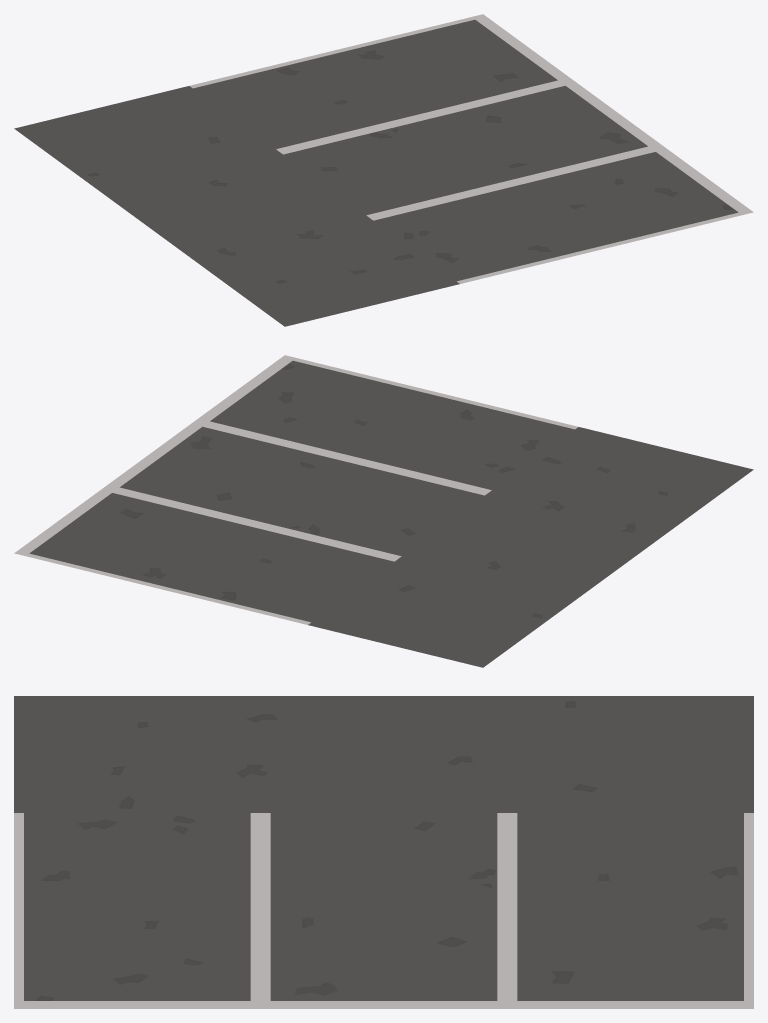
The model's file is SM_Env_Ground_ParkingLines_01.fbx.
3 views of the same model, one above another, from view 1: azimuth 30°, elevation 25°; view 2: azimuth 150°, elevation 25°; view 3: azimuth 270°, elevation 25° (orthographic). The views are drawn at different scales.
Visible parts, largest first — view 1: SM_Env_Ground_ParkingLines_01; view 2: SM_Env_Ground_ParkingLines_01; view 3: SM_Env_Ground_ParkingLines_01.
Boxes of the visible parts, left/top/right/bottom form: SM_Env_Ground_ParkingLines_01: left=14, top=14, right=753, bottom=326; SM_Env_Ground_ParkingLines_01: left=14, top=355, right=753, bottom=667; SM_Env_Ground_ParkingLines_01: left=14, top=696, right=753, bottom=1008.
Bounding box in the file's own units: 1000 × 0 × 1000.
